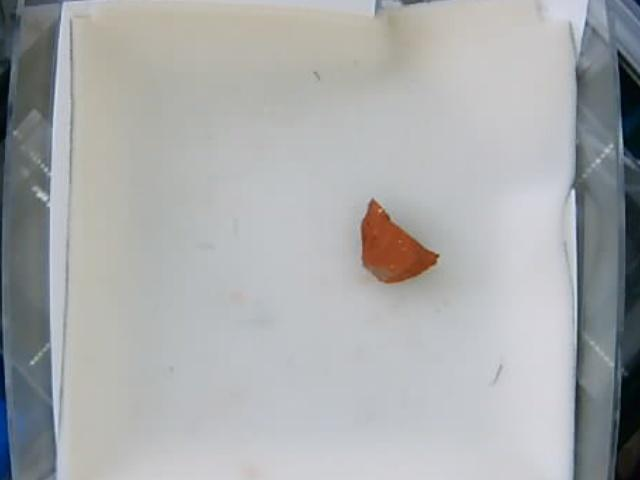Brisk: (360, 197, 440, 285)
